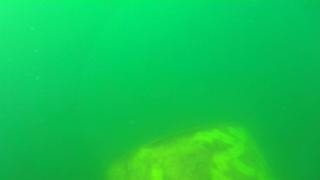pipe: (104, 124, 277, 179)
